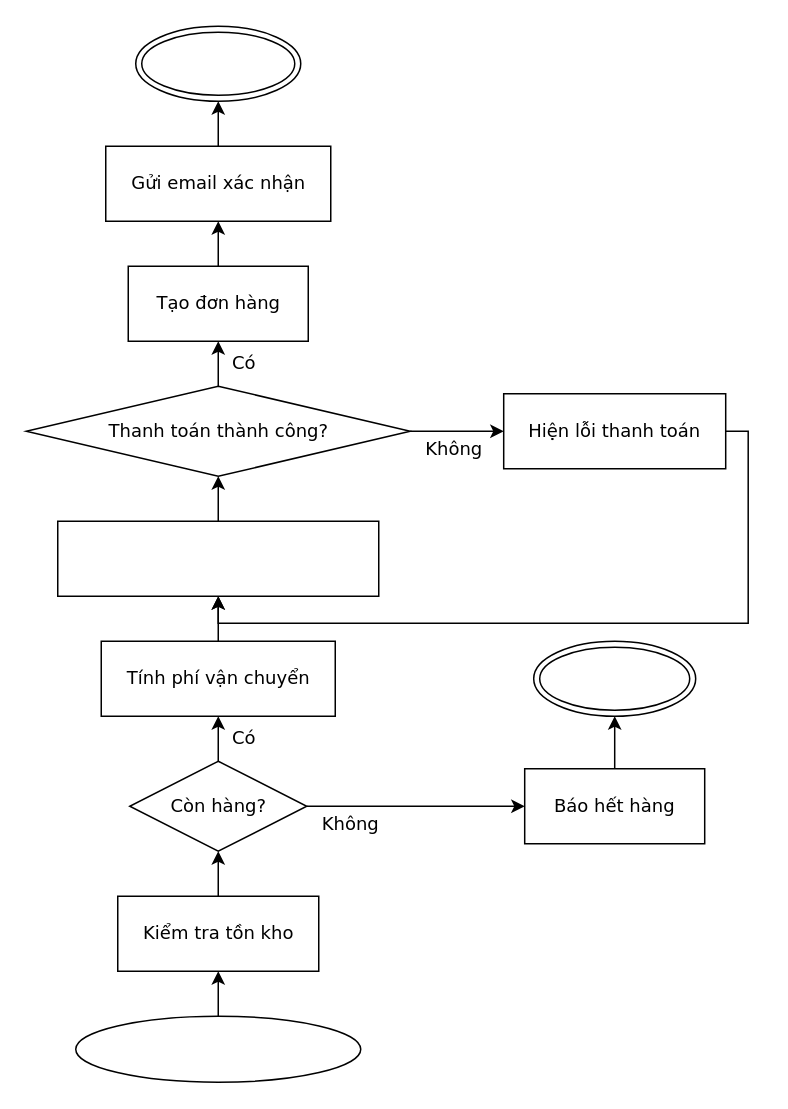
The diagram is 788 pixels wide and 1109 high, and some of its shapes have lost their labels. The shapes that lost their labels are listed below. From the top down, each one's box as (x1, y1, x2, y2) in pixels, then its label:
(134, 25, 301, 101): Hoàn tất
(56, 520, 379, 596): Chọn phương thức thanh toán
(532, 640, 696, 716): Kết thúc
(74, 1015, 361, 1082): Khách mở giỏ hàng
